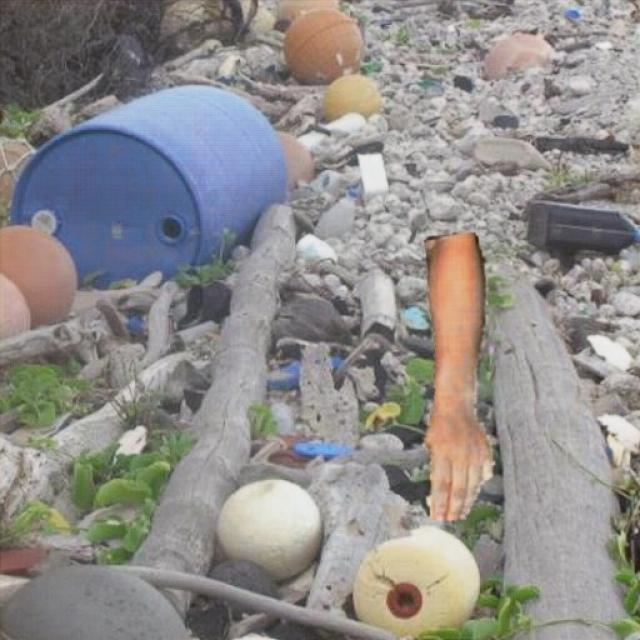Person in Rubble: (422, 232, 493, 518)
